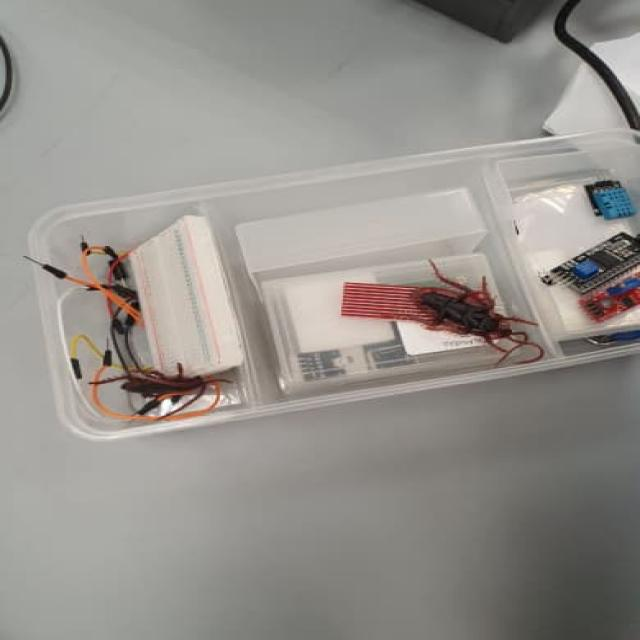Cockroach: (400, 257, 555, 368), (80, 355, 224, 406)
